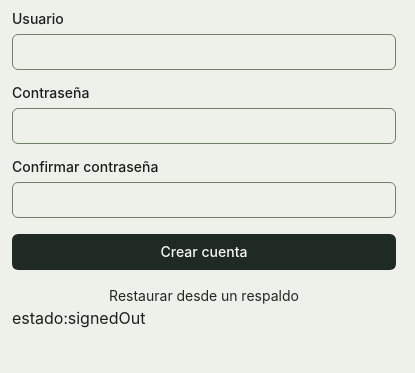
Test: SetupOwnerForm › setup_password_min_10_error_text
The width and height of the screenshot is (415, 373).
Type "dueña" into the field labelled "Usuario".
click(204, 52); type("dueña")  # box [12,34,396,70]
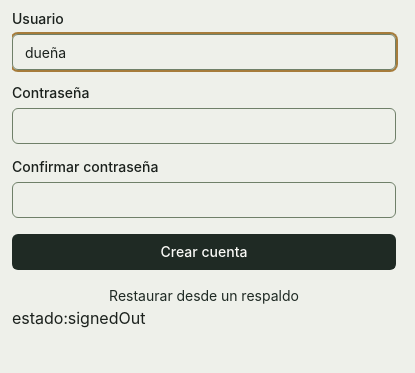
Type "corta" into the password field labelled "Contraseña".
click(204, 126); type("corta")  # box [12,108,396,144]
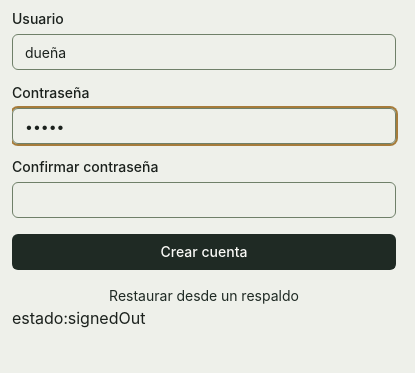
Type "corta" into the password field labelled "Confirmar contraseña".
click(204, 200); type("corta")  # box [12,182,396,218]
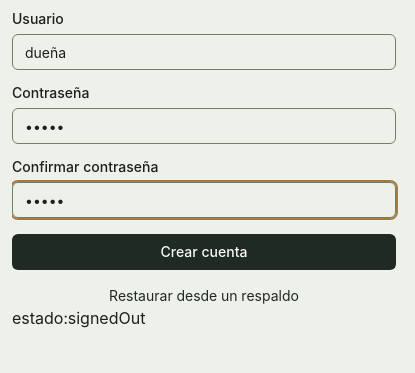
Click the button "Crear cuenta".
click(204, 252)  # box [12,234,396,270]
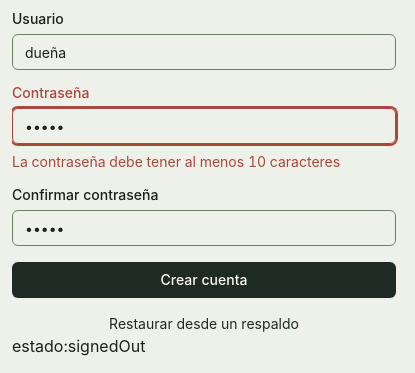
Check: the text "La contraseña debe tener al menos 10 caracteres" is shown, box [12,152,396,172]
